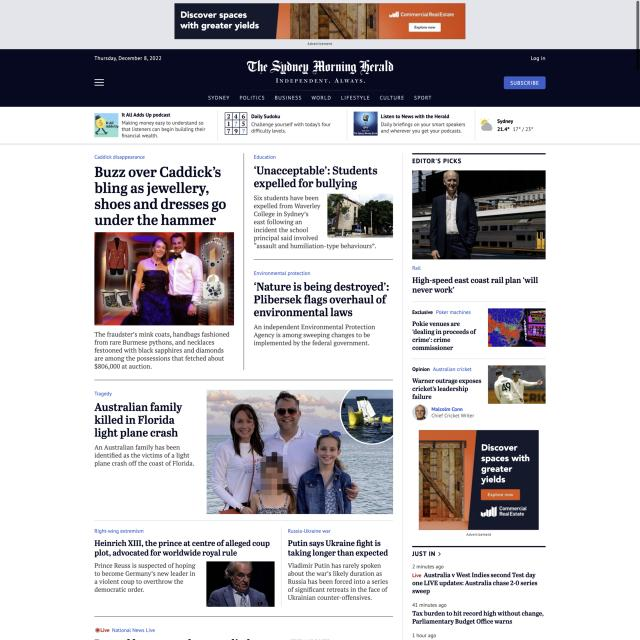logo: (246, 60, 394, 86)
navigation: (207, 92, 433, 104), (92, 77, 106, 88)
